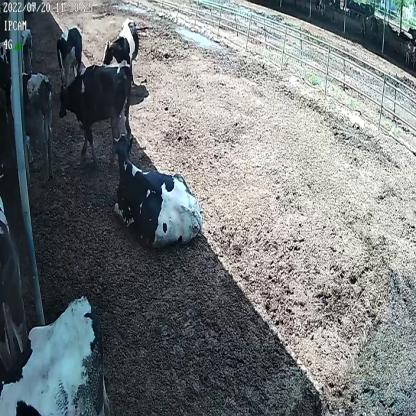cow: (111, 129, 204, 249), (58, 63, 134, 162), (102, 18, 140, 86), (54, 26, 85, 89)
